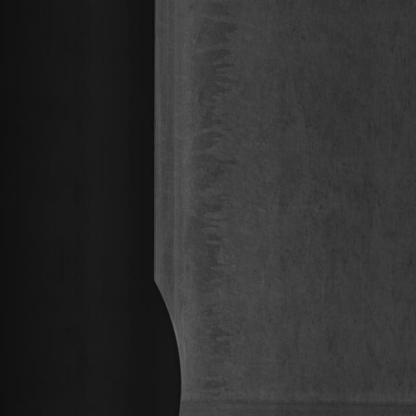crescent_gap: (146, 250, 194, 416)
